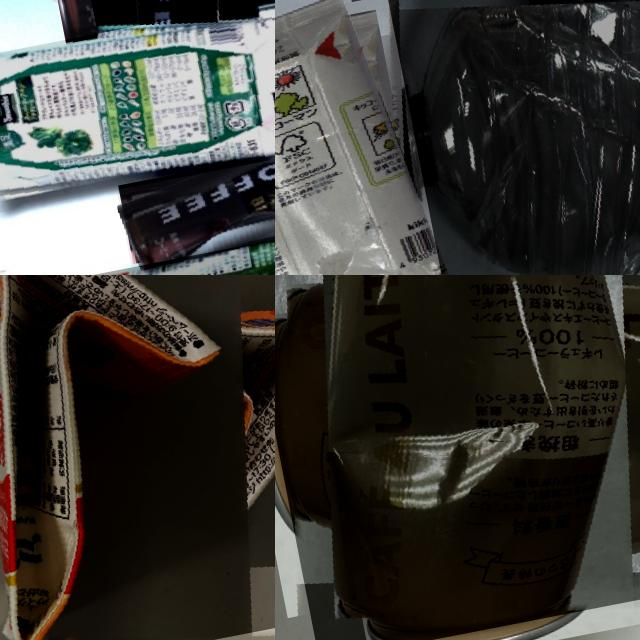Aluminium Foil: (0, 275, 275, 640), (0, 0, 275, 223), (275, 0, 455, 275), (25, 221, 275, 275)
Can: (275, 275, 640, 640), (112, 132, 275, 273), (73, 0, 275, 84)
Transparent Plastic Bottle: (349, 0, 640, 275)
